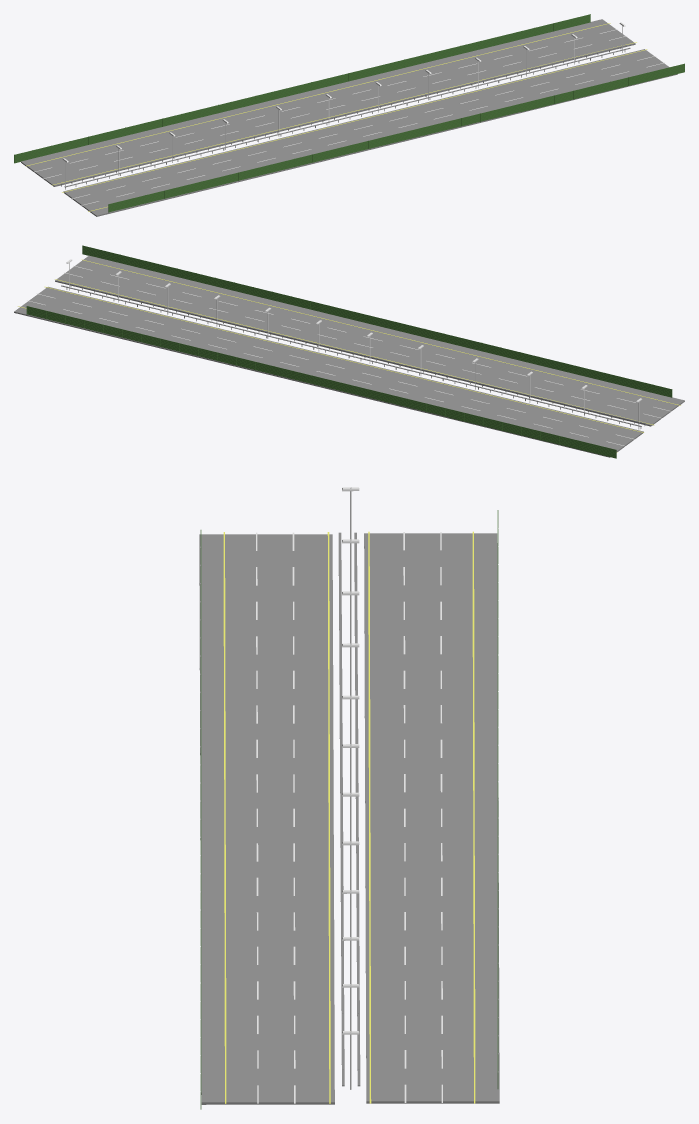
The model's file is Road straight.gltf.
3 views of the same model, one above another, from view 1: azimuth 30°, elevation 25°; view 2: azimuth 150°, elevation 25°; view 3: azimuth 270°, elevation 25° (orthographic). The views are drawn at different scales.
Parts seen in each view (by area): view 1: node-0; view 2: node-0; view 3: node-0.
Boxes of the visible parts, bbox=[...] form: node-0: bbox=[14, 14, 684, 216]; node-0: bbox=[14, 245, 684, 458]; node-0: bbox=[199, 487, 499, 1109].
Bounding box in the file's own units: 4048 × 188 × 883.
